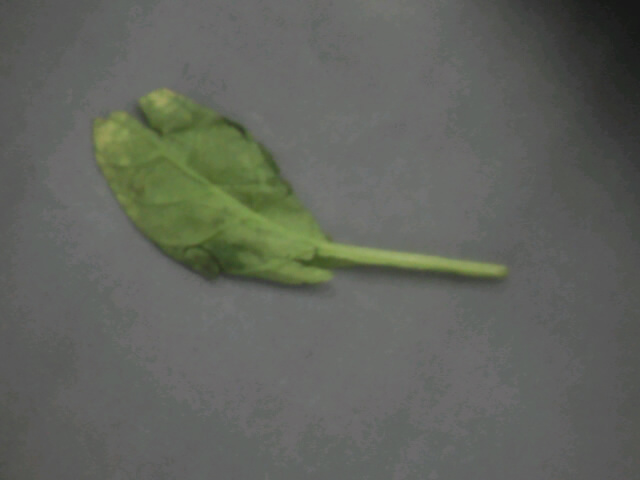yellow: (74, 82, 401, 296)
